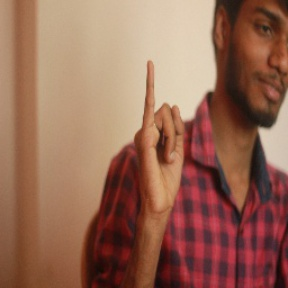I: (134, 57, 188, 210)
